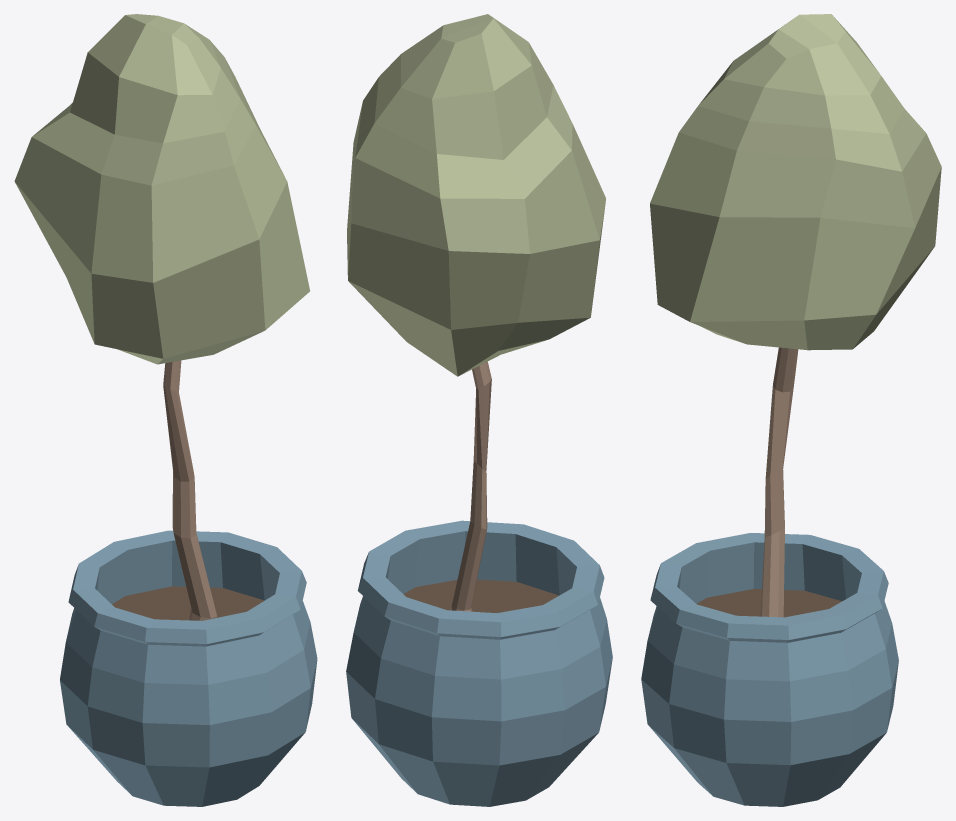
Rendered from Tree_1.fbx.
The picture shows the model from 3 angles, left to right: view 1: azimuth 30°, elevation 25°; view 2: azimuth 150°, elevation 25°; view 3: azimuth 270°, elevation 25°; orthographic projection. The views are drawn at different scales.
Parts seen in each view (by area): view 1: Tree_1; view 2: Tree_1; view 3: Tree_1.
Part boxes in pixels (box(x1,y1,x2,y2)): Tree_1: box(14, 14, 317, 806); Tree_1: box(346, 14, 612, 806); Tree_1: box(641, 14, 941, 806).
Size of the model in its own units: 63.43 by 73.97 by 203.
